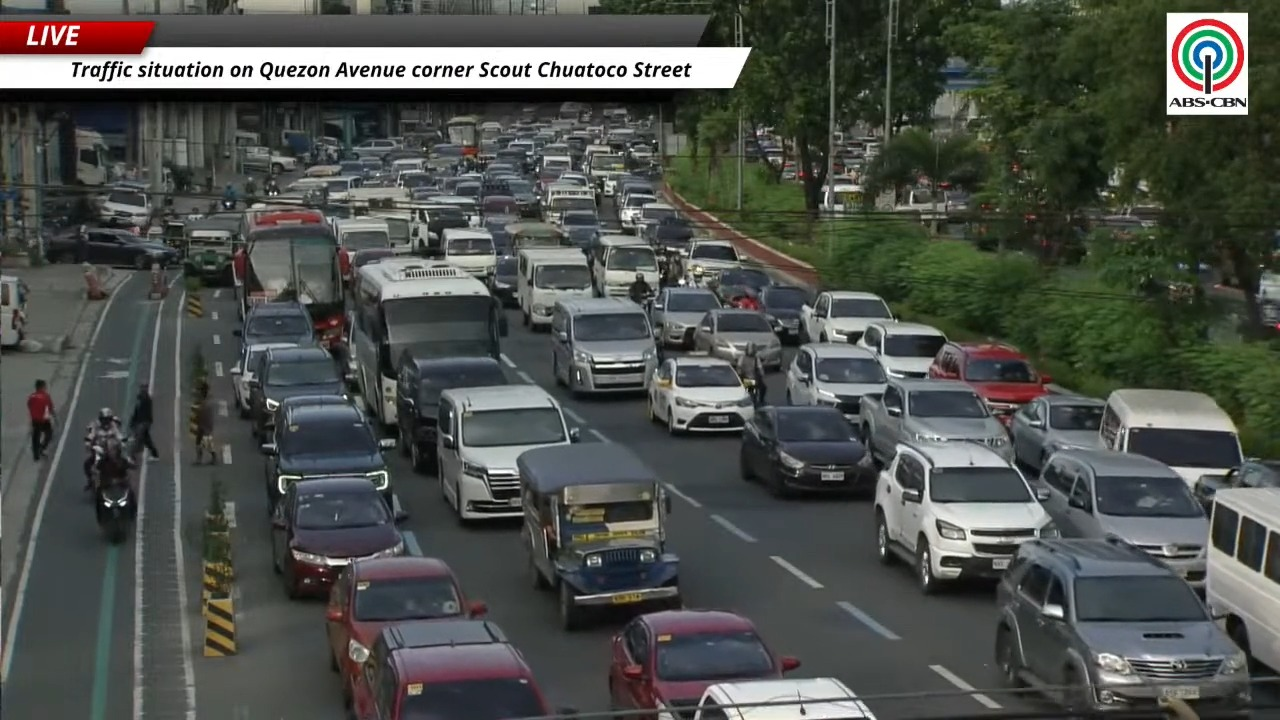bus: (350, 258, 506, 425), (234, 209, 343, 349), (445, 115, 481, 156)
car: (994, 538, 1251, 716), (874, 442, 1060, 593), (1039, 449, 1209, 586), (326, 555, 486, 698), (350, 620, 569, 719), (608, 609, 799, 710), (271, 476, 404, 597), (261, 395, 395, 509), (396, 352, 509, 471), (739, 406, 877, 496), (928, 341, 1050, 424), (246, 345, 345, 441), (646, 355, 754, 434), (682, 677, 874, 719), (786, 343, 886, 423), (1009, 394, 1104, 471), (44, 227, 178, 269), (692, 308, 781, 369), (856, 321, 946, 378), (230, 342, 294, 417), (800, 291, 893, 342), (1192, 459, 1279, 509), (651, 287, 721, 347), (233, 301, 314, 345), (758, 284, 809, 340), (686, 239, 742, 280), (644, 217, 693, 254), (488, 255, 518, 307), (718, 266, 772, 294), (350, 247, 395, 275), (715, 283, 759, 310), (350, 139, 400, 159)
motorcycle: (91, 446, 135, 543), (97, 480, 135, 544), (742, 378, 764, 409), (639, 291, 654, 313), (220, 198, 236, 210), (264, 185, 280, 196)
truck: (859, 378, 1013, 462), (75, 127, 112, 186)
